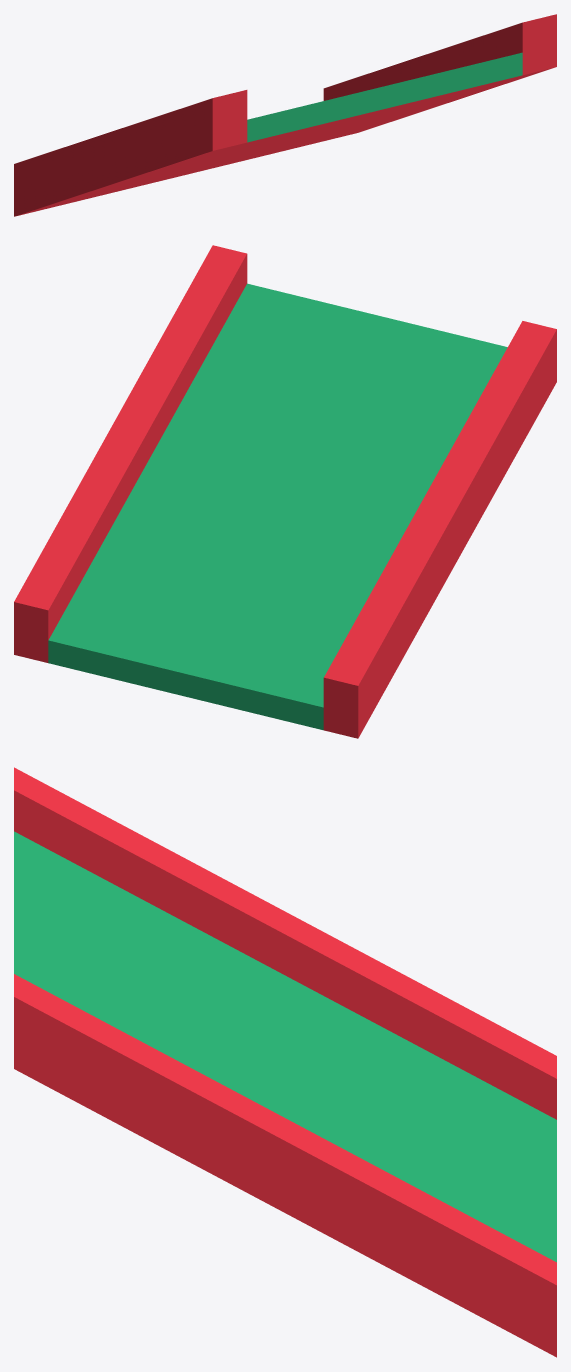
File: rampD.fbx
3 renders of one model, top to bottom at view 1: azimuth 30°, elevation 25°; view 2: azimuth 150°, elevation 25°; view 3: azimuth 270°, elevation 25°, orthographic. The views are drawn at different scales.
Parts seen in each view (by area): view 1: rampD; view 2: rampD; view 3: rampD.
Part boxes in pixels (x1=…): rampD: x1=14, y1=14, x2=556, y2=216; rampD: x1=14, y1=245, x2=556, y2=738; rampD: x1=14, y1=767, x2=556, y2=1357.
Size of the model in its own units: 10 by 7.33 by 10.
